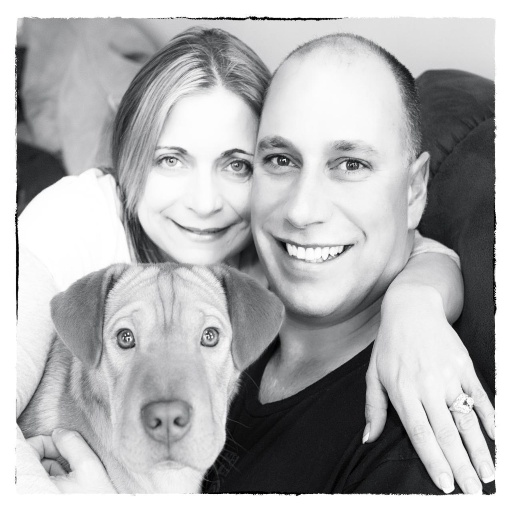hand: (359, 314, 497, 492), (14, 428, 118, 493)
